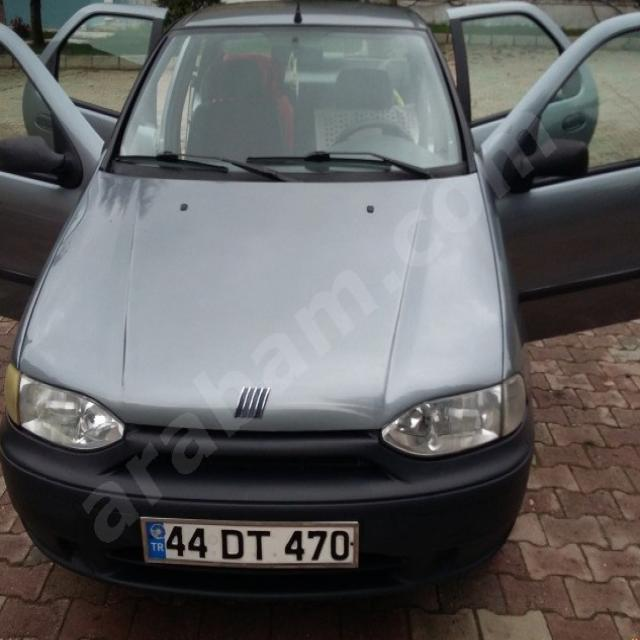license_plate: (145, 522, 356, 565)
